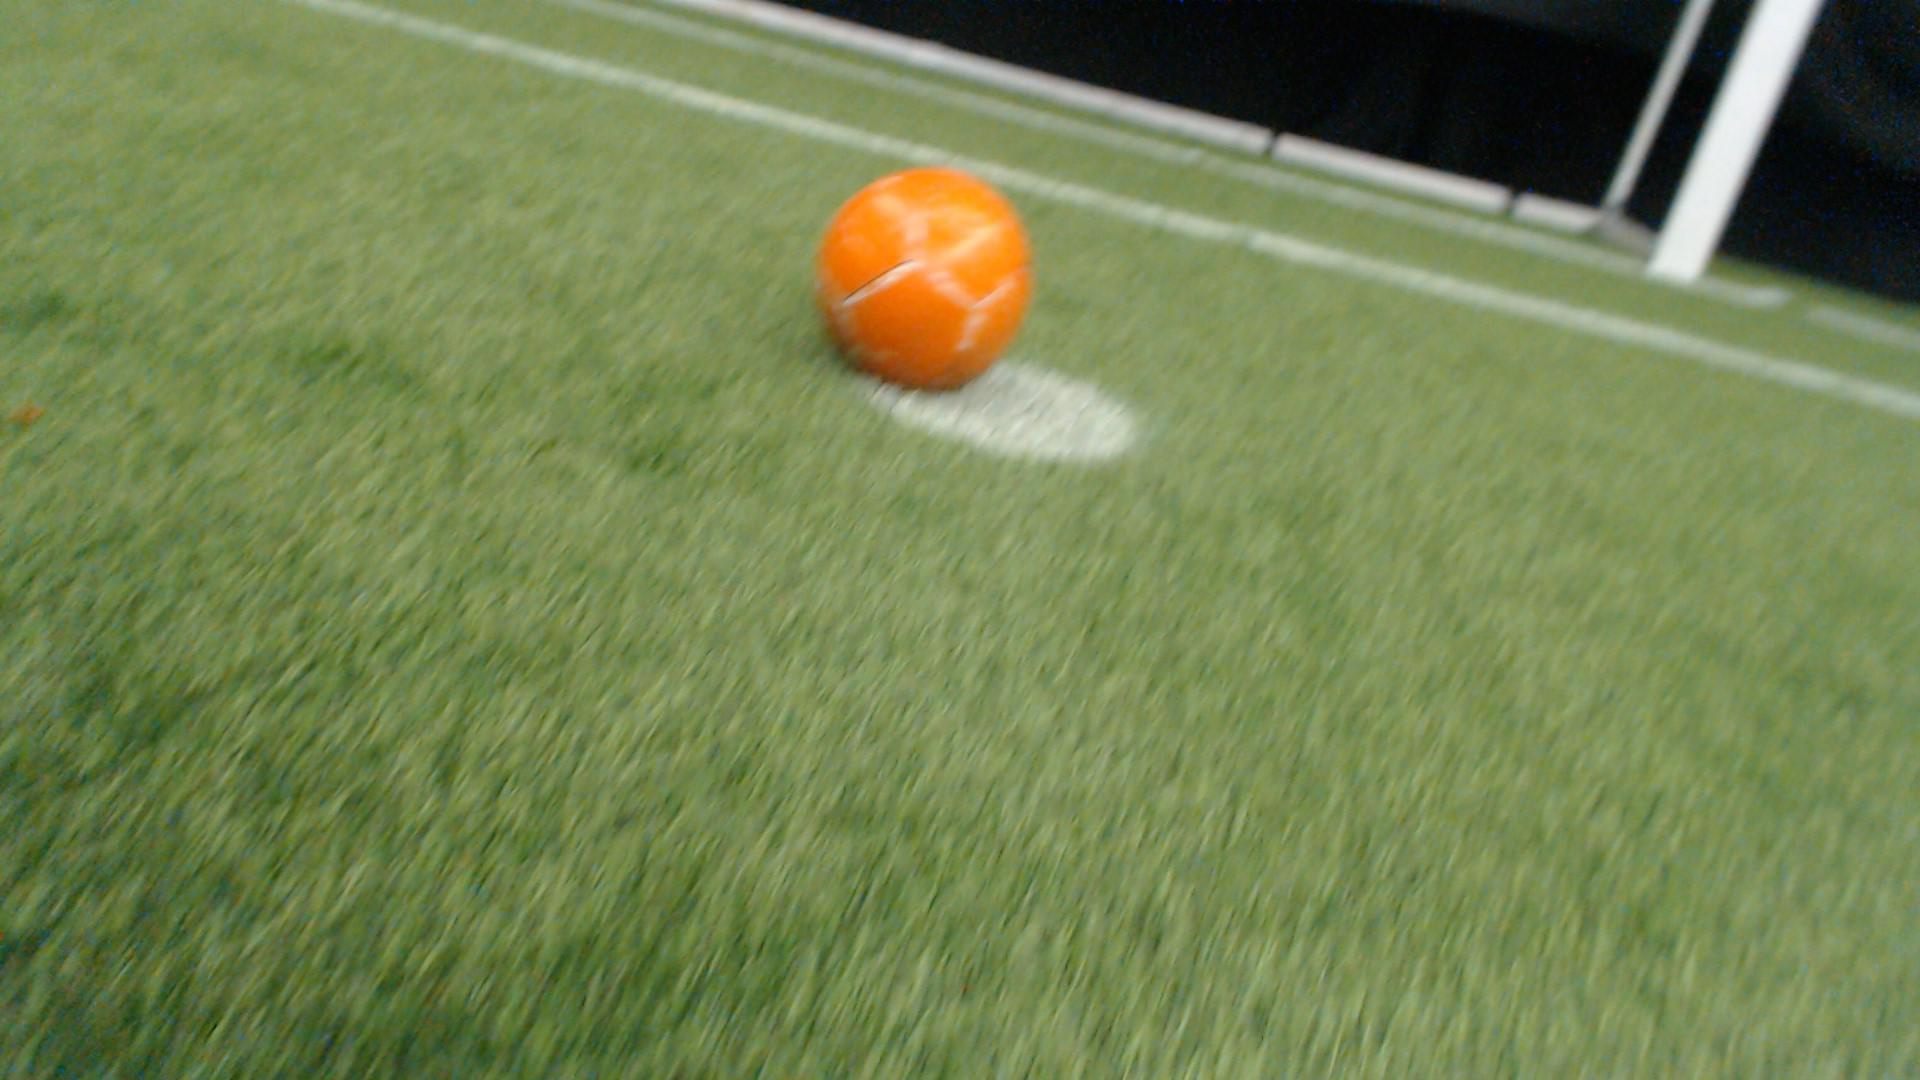bola: (794, 129, 1068, 404)
